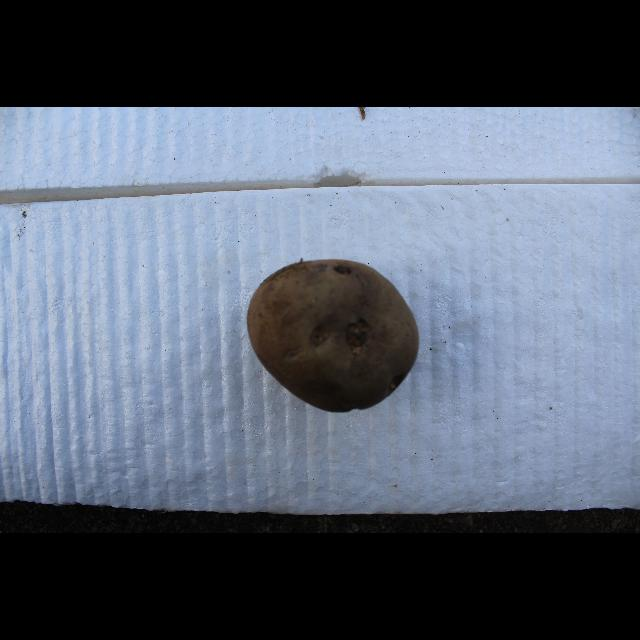Diseased-fungal potato: (216, 222, 398, 384)
